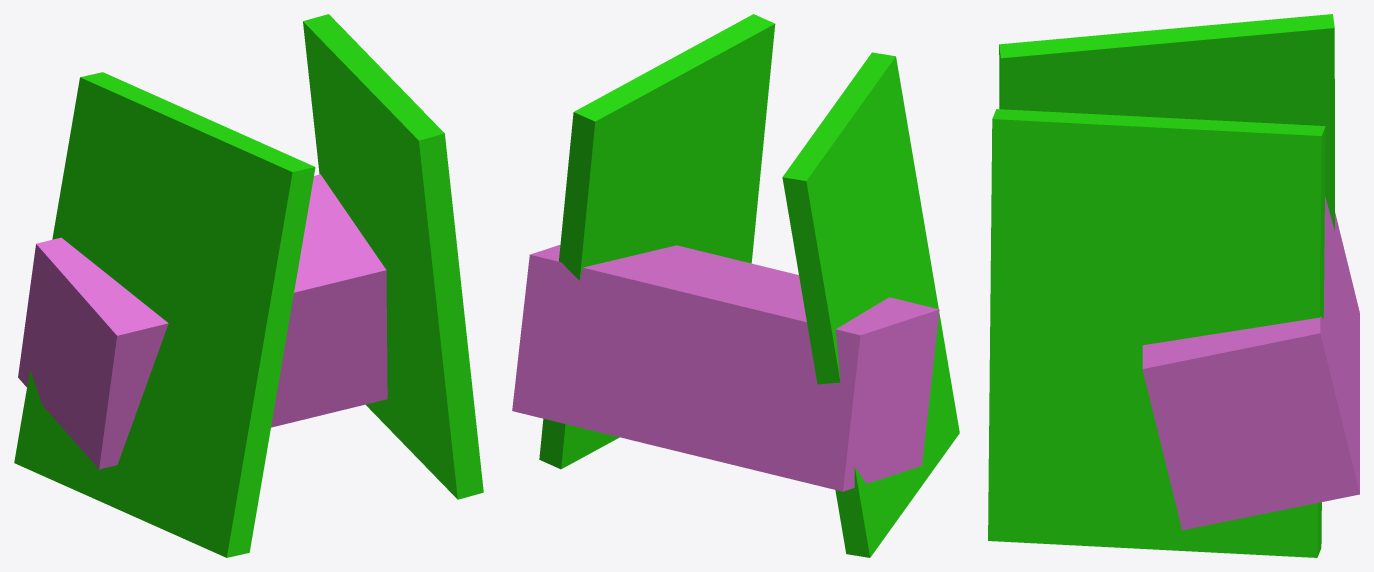
The model's file is spaceship.glb.
3 renders of one model, left to right at view 1: azimuth 30°, elevation 25°; view 2: azimuth 150°, elevation 25°; view 3: azimuth 270°, elevation 25°, orthographic. The views are drawn at different scales.
Visible parts, largest first — view 1: Cube.002, Cube; view 2: Cube.002, Cube; view 3: Cube.002, Cube.
Part boxes in pixels (x1,y1,x2,y2): Cube.002: (14, 14, 483, 557); Cube: (18, 174, 387, 469); Cube.002: (539, 14, 959, 557); Cube: (512, 245, 939, 491); Cube.002: (988, 14, 1334, 557); Cube: (1142, 196, 1359, 530).
Size of the model in its own units: 4.93 by 5.03 by 4.08.
